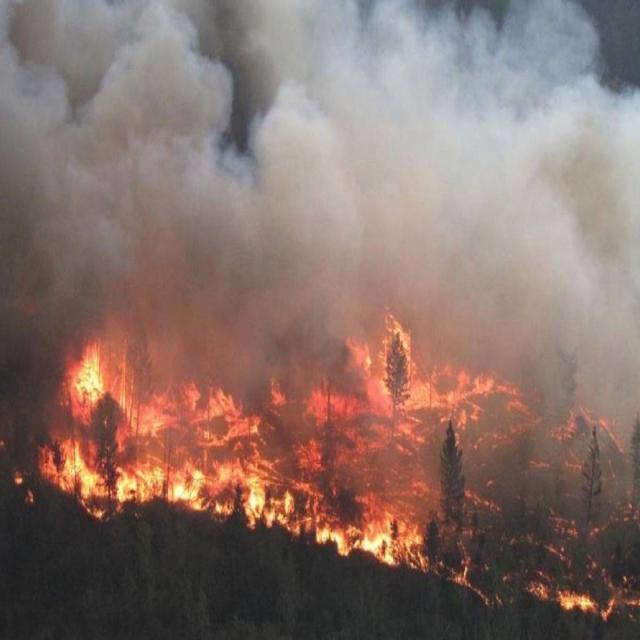Fire: (68, 342, 259, 518), (437, 396, 582, 534), (256, 448, 442, 555), (338, 367, 434, 541)
Smoke: (26, 86, 617, 290)
